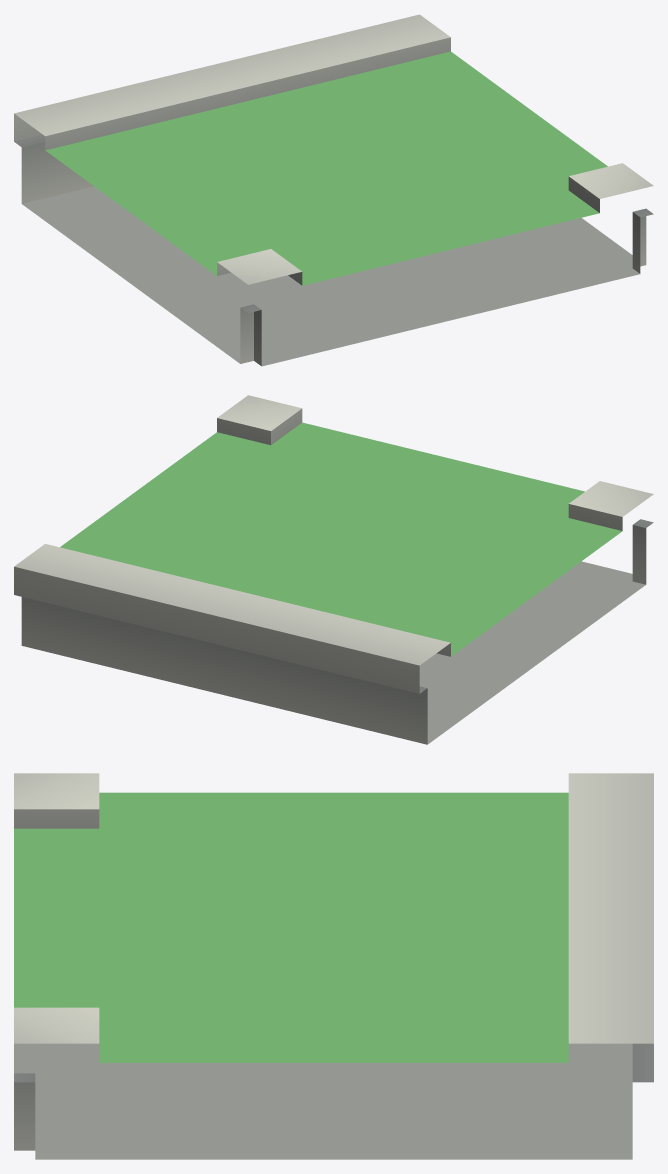
Rendered from Planter_3way_Large_01.fbx.
The picture shows the model from 3 angles, top to bottom: view 1: azimuth 30°, elevation 25°; view 2: azimuth 150°, elevation 25°; view 3: azimuth 270°, elevation 25°; orthographic projection. The views are drawn at different scales.
Visible parts, largest first — view 1: Planter_3way_Large_01; view 2: Planter_3way_Large_01; view 3: Planter_3way_Large_01.
Part boxes in pixels (x1=…): Planter_3way_Large_01: x1=14, y1=14, x2=653, y2=366; Planter_3way_Large_01: x1=14, y1=395, x2=653, y2=744; Planter_3way_Large_01: x1=14, y1=773, x2=653, y2=1159.
Size of the model in its own units: 300 by 60 by 300.
